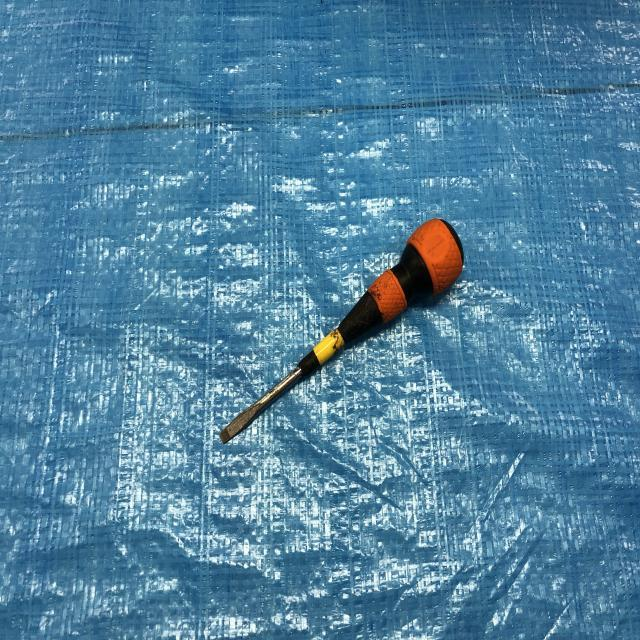screwdriver: (222, 214, 468, 444)
